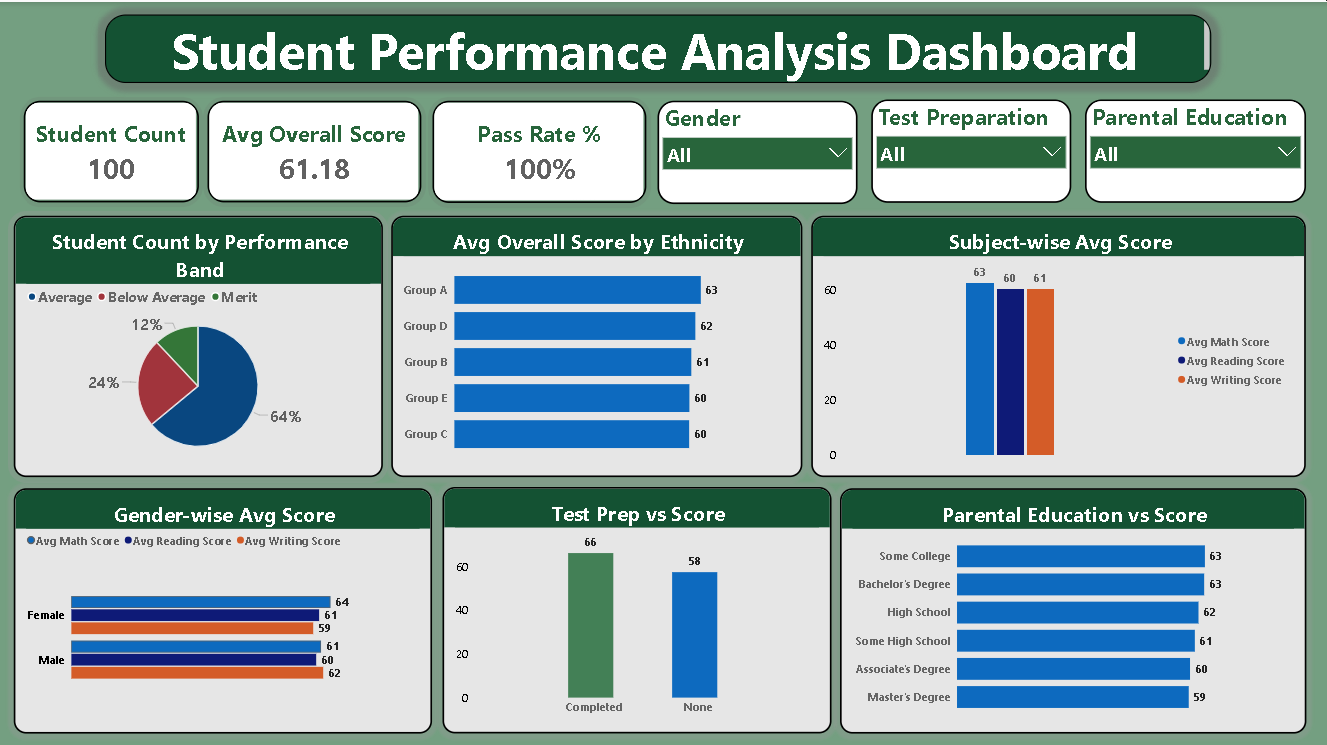

The page's visual inventory and layout, read from the dashboard file:
{"tool":"powerbi","page":{"name":"Dashboard","canvas":[1920,1080],"ordinal":0},"visuals":[{"type":"textbox","box":[151.5,17.3,1601.5,99.6],"z":0},{"type":"pieChart","fields":{"Category":["Marks.Performance Band"],"Y":["Marks.Student Count"]},"box":[19.5,309.5,534.5,378.7],"z":1000},{"type":"clusteredColumnChart","title":"Subject-wise Avg Score","fields":{"Y":["Marks.Avg Math Score","Marks.Avg Reading Score","Marks.Avg Writing Score"]},"box":[1175.1,309.5,716.3,378.7],"z":2000},{"type":"clusteredBarChart","title":"Gender-wise Avg Score","fields":{"Category":["Marks.Gender"],"Y":["Marks.Avg Math Score","Marks.Avg Reading Score","Marks.Avg Writing Score"]},"box":[19.5,703.3,606,354.9],"z":3000},{"type":"columnChart","title":"Test Prep vs Score","fields":{"Category":["Marks.Test Preparation"],"Y":["Marks.Avg Overall Score"]},"box":[640.6,702.1,562.8,356.5],"z":4000},{"type":"barChart","title":"Parental Education vs Score ","fields":{"Category":["Marks.Parental Education"],"Y":["Marks.Avg Overall Score"]},"box":[1216.2,703.3,675.2,354.9],"z":5000},{"type":"cardVisual","title":"Student Count","fields":{"Data":["Marks.Student Count"]},"box":[34.6,142.8,253.2,147.2],"z":5001},{"type":"cardVisual","title":"Student Count","fields":{"Data":["Marks.Avg Overall Score"]},"box":[300.8,142.8,309.5,147.2],"z":5002},{"type":"cardVisual","title":"Student Count","fields":{"Data":["Marks.Pass Rate %"]},"box":[626.1,143,309.5,148.4],"z":5003},{"type":"slicer","fields":{"Values":["Marks.Gender"]},"box":[952.2,142.8,290,149.3],"z":5004},{"type":"slicer","fields":{"Values":["Marks.Test Preparation"]},"box":[1261.7,140.7,290,149.3],"z":5005},{"type":"slicer","fields":{"Values":["Marks.Parental Education"]},"box":[1571.2,140.7,320.3,149.3],"z":5006},{"type":"clusteredBarChart","fields":{"Category":["Marks.Ethnicity"],"Y":["Marks.Avg Overall Score"]},"box":[566.4,309.5,595.4,378.2],"z":5007}]}

Visuals, with their boxes in screenshot pixels (x1, y1, x2, y2), scaled from the page's 1920x1080 canvas onto the 1327x745 screenshot:
textbox: region(105, 12, 1212, 81)
pieChart - Marks.Performance Band x Marks.Student Count: region(13, 213, 383, 475)
"Subject-wise Avg Score" clusteredColumnChart: region(812, 213, 1307, 475)
"Gender-wise Avg Score" clusteredBarChart: region(13, 485, 432, 730)
"Test Prep vs Score" columnChart: region(443, 484, 832, 730)
"Parental Education vs Score " barChart: region(841, 485, 1307, 730)
"Student Count" cardVisual: region(24, 99, 199, 200)
"Student Count" cardVisual: region(208, 99, 422, 200)
"Student Count" cardVisual: region(433, 99, 647, 201)
slicer - Marks.Gender: region(658, 99, 859, 201)
slicer - Marks.Test Preparation: region(872, 97, 1072, 200)
slicer - Marks.Parental Education: region(1086, 97, 1307, 200)
clusteredBarChart - Marks.Ethnicity x Marks.Avg Overall Score: region(391, 213, 803, 474)
